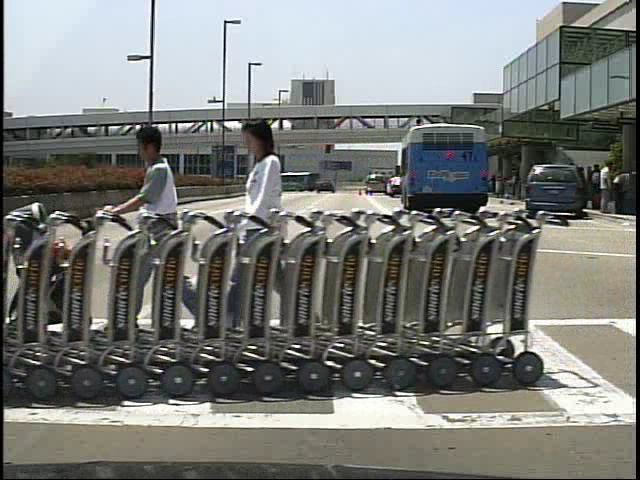person: (232, 114, 312, 349), (109, 120, 193, 339), (597, 160, 617, 214), (589, 164, 605, 214)
